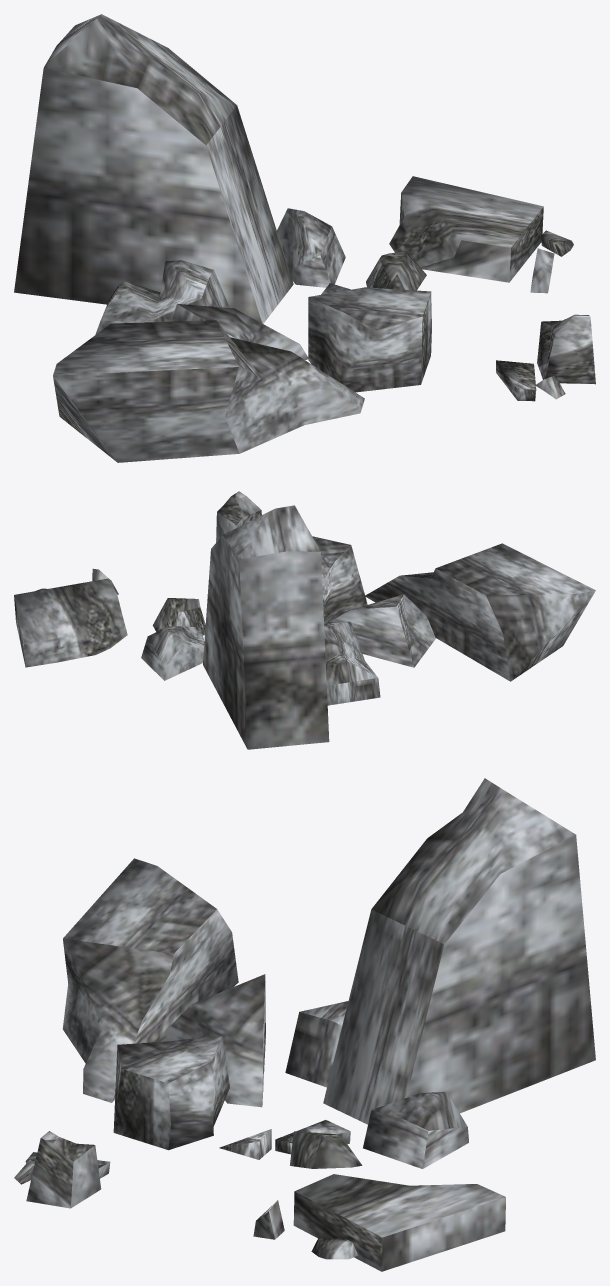
File: S_Build_Snowland183.FBX
3 renders of one model, top to bottom at view 1: azimuth 30°, elevation 25°; view 2: azimuth 150°, elevation 25°; view 3: azimuth 270°, elevation 25°, orthographic. The views are drawn at different scales.
Parts seen in each view (by area): view 1: S_Build_Snowland183; view 2: S_Build_Snowland183; view 3: S_Build_Snowland183.
Boxes of the visible parts, box(x1,y1,x2,y2) form: S_Build_Snowland183: box(14, 14, 595, 462); S_Build_Snowland183: box(14, 491, 595, 749); S_Build_Snowland183: box(14, 778, 595, 1271).
Size of the model in its own units: 467 by 369 by 204.
